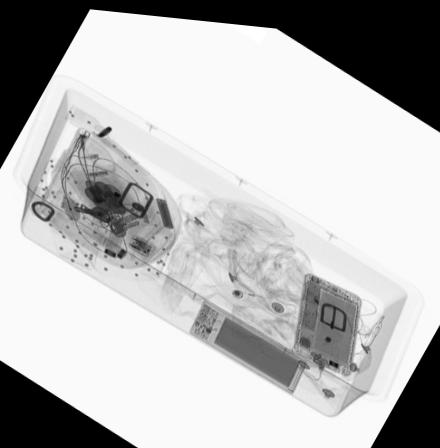Powerbank: (187, 298, 308, 388)
